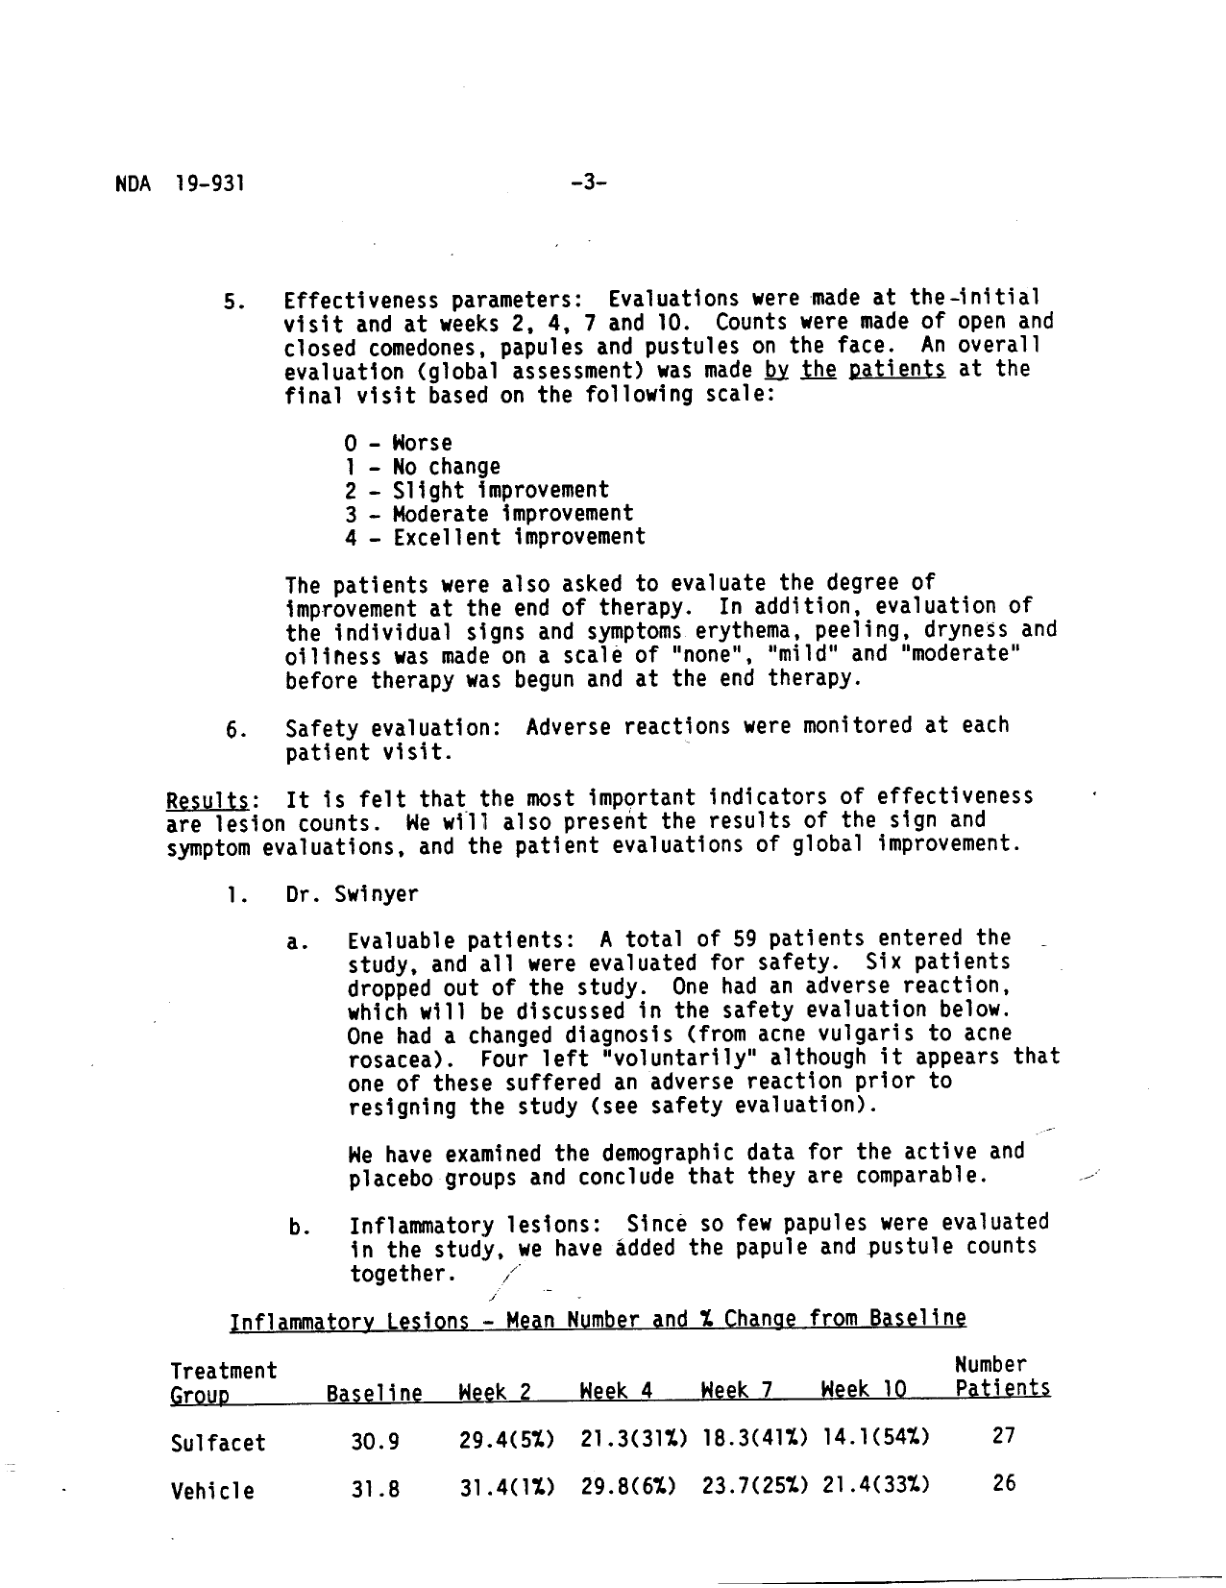partial_lined: (165, 1356, 1053, 1506)
